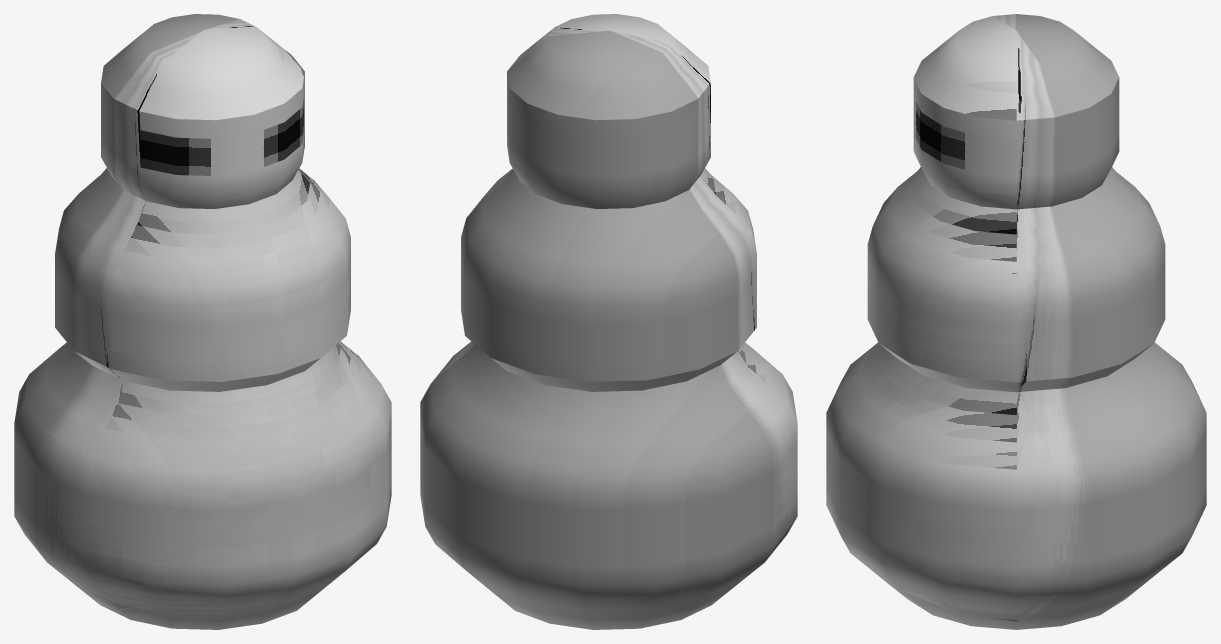
File: Building_Snowman.obj
3 views of the same model, side by side, from view 1: azimuth 30°, elevation 25°; view 2: azimuth 150°, elevation 25°; view 3: azimuth 270°, elevation 25° (orthographic).
Parts seen in each view (by area): view 1: Body; view 2: Body; view 3: Body.
Boxes of the visible parts, bbox=[...] form: Body: bbox=[14, 14, 391, 629]; Body: bbox=[420, 14, 797, 629]; Body: bbox=[826, 14, 1206, 629].
Size of the model in its own units: 0.5968 by 0.9839 by 0.5968.
1 material, 1 textured.
